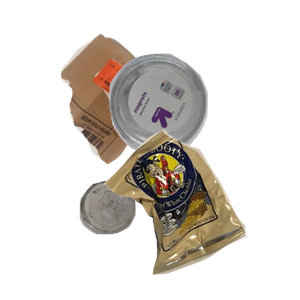cardboard: (58, 31, 222, 188)
glass: (77, 178, 205, 300)
plastic: (107, 51, 300, 199)
trash: (101, 127, 300, 300)
